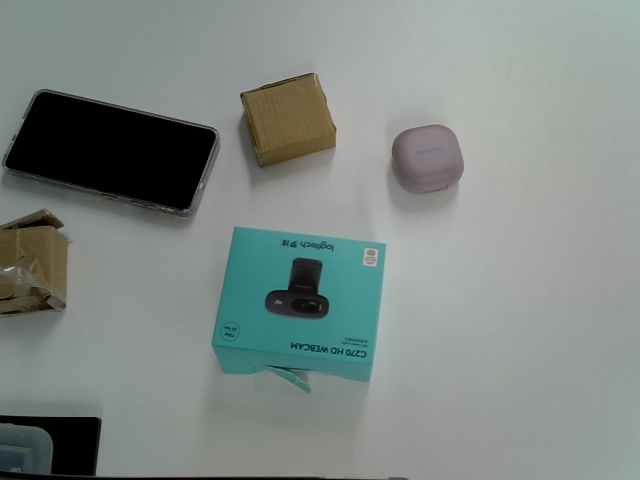defect: (1, 208, 67, 316)
normal: (240, 71, 339, 169)
